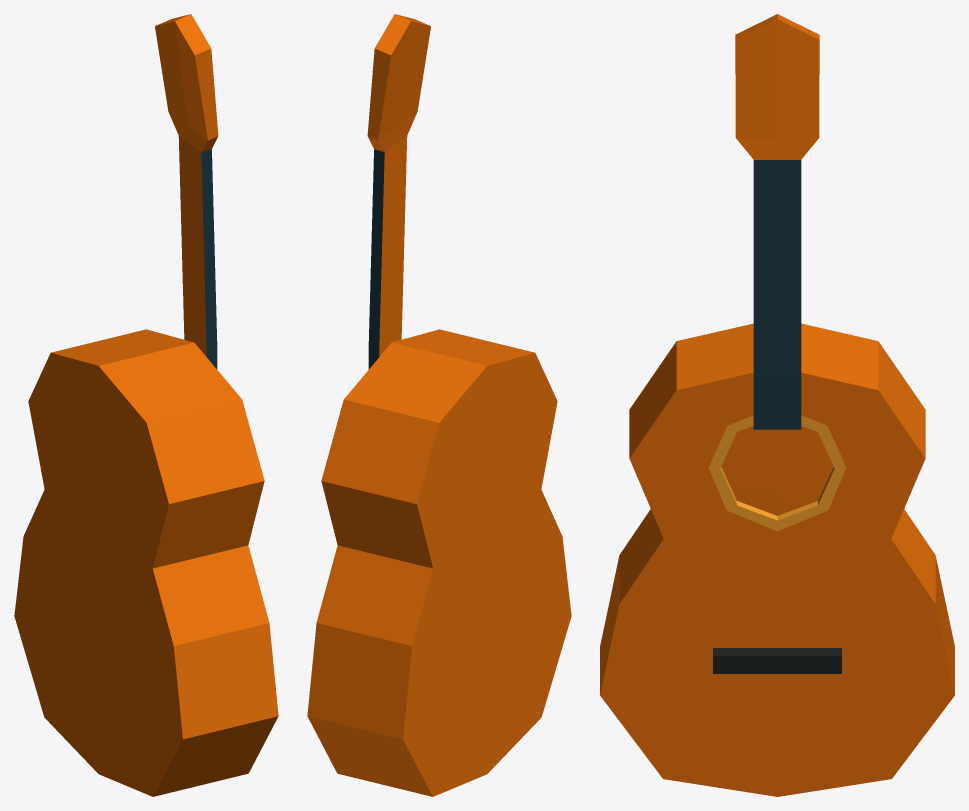
File: GuitareLowPoly.fbx
3 views of the same model, side by side, from view 1: azimuth 30°, elevation 25°; view 2: azimuth 150°, elevation 25°; view 3: azimuth 270°, elevation 25° (orthographic). The views are drawn at different scales.
Parts seen in each view (by area): view 1: Cube.001; view 2: Cube.001; view 3: Cube.001.
Part boxes in pixels (x1=…): Cube.001: x1=14, y1=14, x2=278, y2=796; Cube.001: x1=307, y1=14, x2=571, y2=796; Cube.001: x1=600, y1=14, x2=954, y2=796.
Bounding box in the file's own units: 0.1579 × 1 × 0.4155.
Materials: 1 (1 with a texture image).
